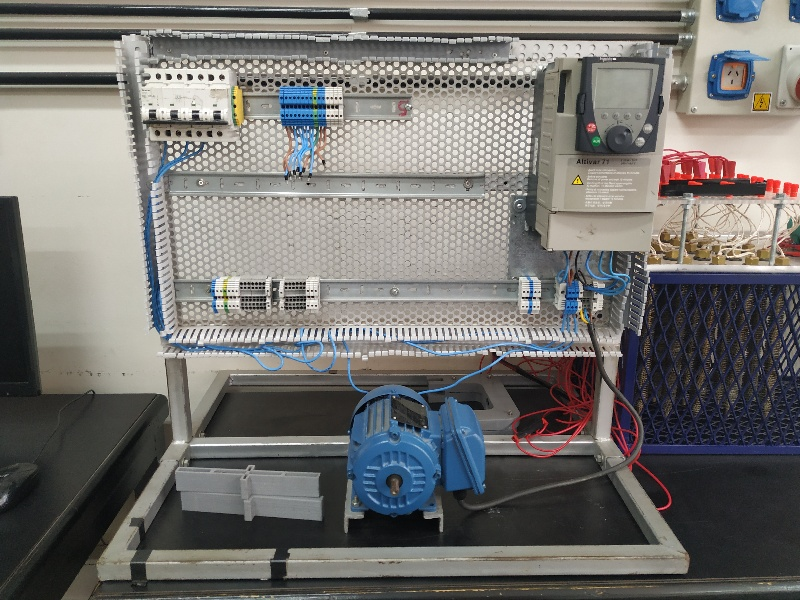Tablero 0: (129, 31, 669, 358)
